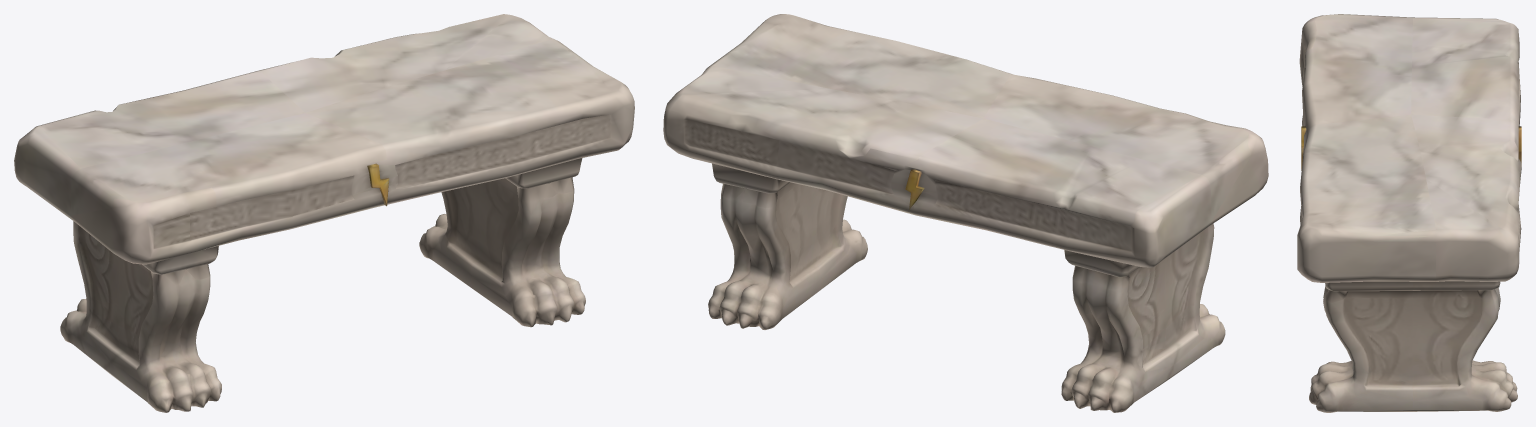
File: decor_bench_t1_marble.tripo.glb
3 views of the same model, side by side, from view 1: azimuth 30°, elevation 25°; view 2: azimuth 150°, elevation 25°; view 3: azimuth 270°, elevation 25° (orthographic). The views are drawn at different scales.
Visible parts, largest first — view 1: tripo_node_c49b3c28-5c4b-4716-8557-19ebf62f8a23; view 2: tripo_node_c49b3c28-5c4b-4716-8557-19ebf62f8a23; view 3: tripo_node_c49b3c28-5c4b-4716-8557-19ebf62f8a23.
Part boxes in pixels (<box>): tripo_node_c49b3c28-5c4b-4716-8557-19ebf62f8a23: <box>14,14,634,412</box>; tripo_node_c49b3c28-5c4b-4716-8557-19ebf62f8a23: <box>663,14,1268,412</box>; tripo_node_c49b3c28-5c4b-4716-8557-19ebf62f8a23: <box>1297,14,1521,412</box>.
Size of the model in its own units: 1.5 by 0.6207 by 0.6353.
Materials: 1 (1 with a texture image).
